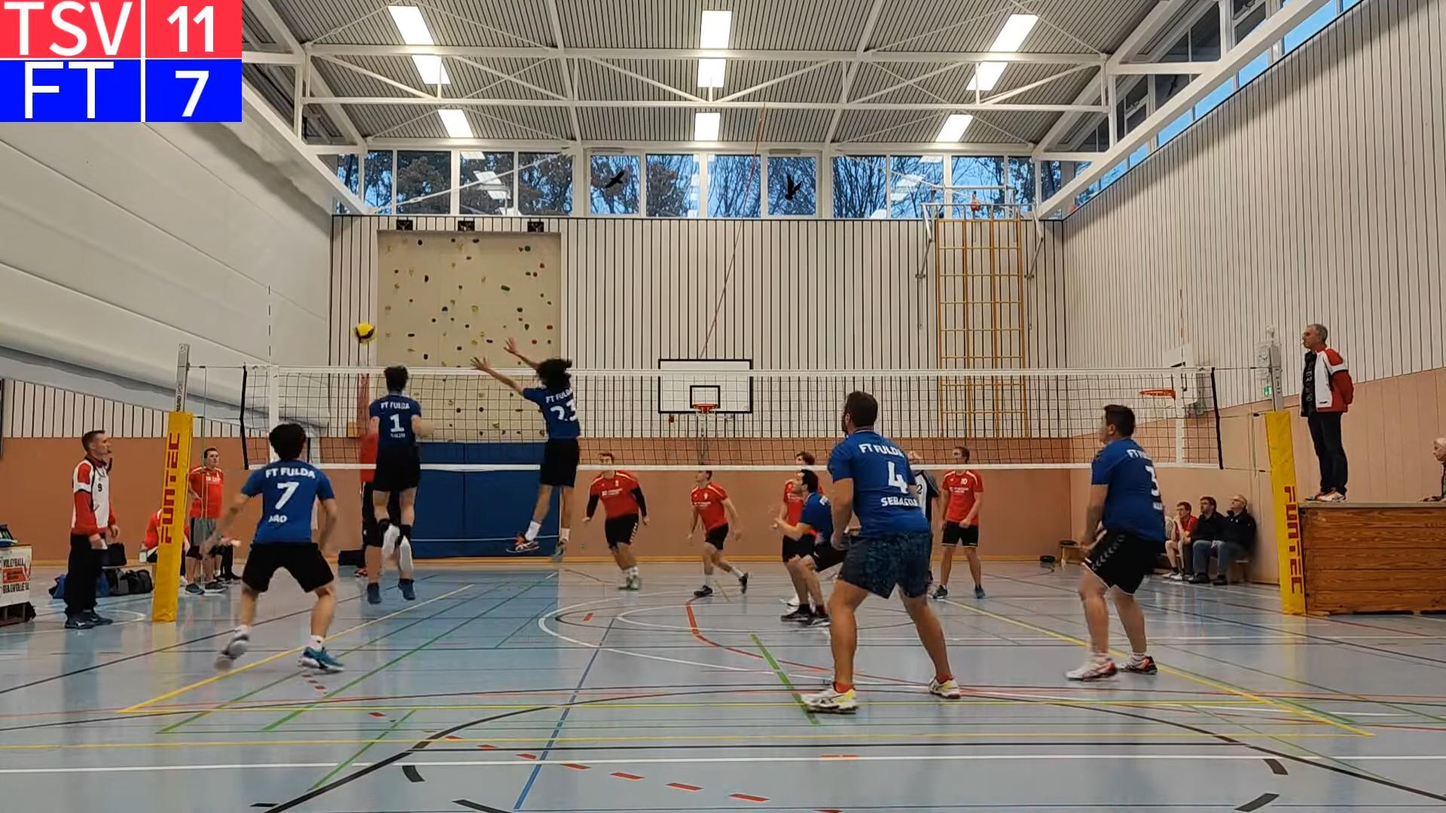attacco: (343, 365, 383, 610)
muro: (472, 335, 584, 561), (352, 359, 420, 569)
